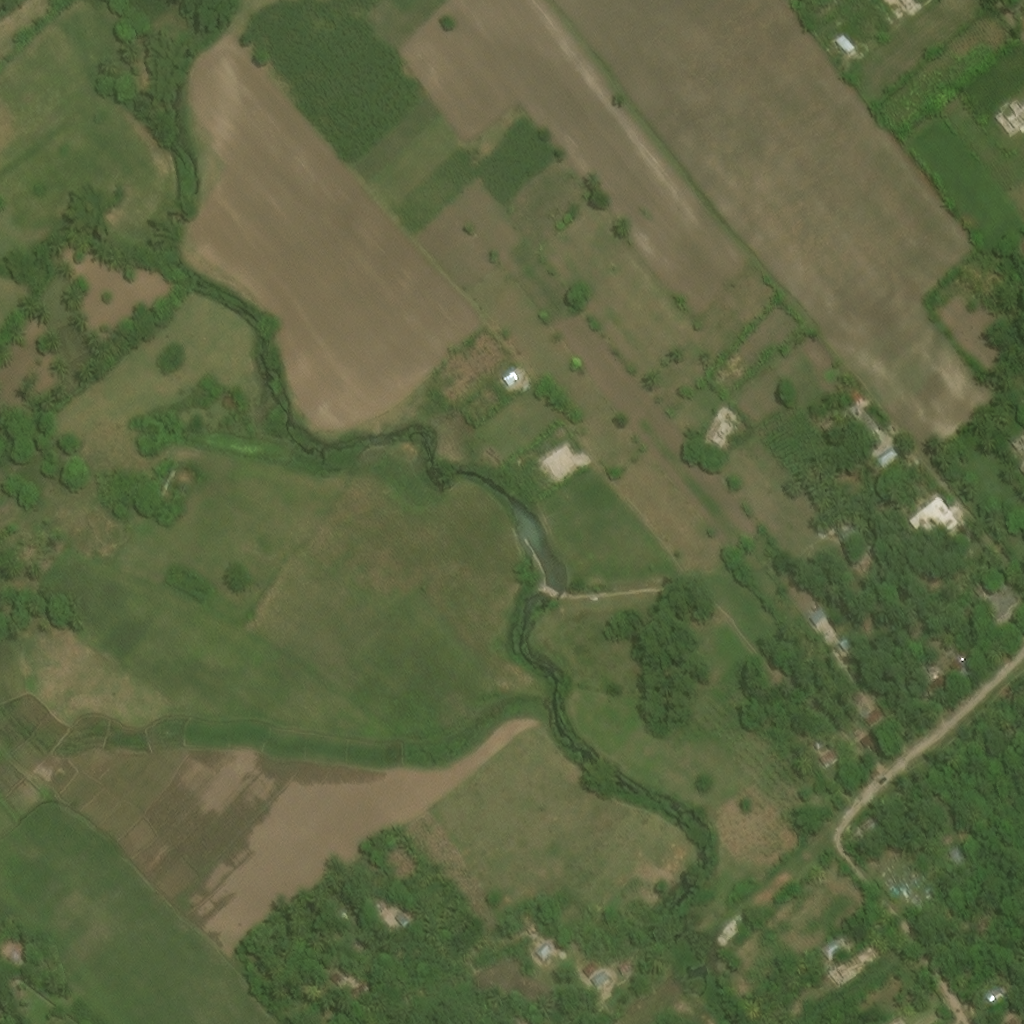destroyed: (920, 879, 935, 893), (897, 876, 909, 890), (911, 891, 923, 902), (908, 884, 919, 894)
minor_damage: (970, 567, 1019, 614), (857, 407, 878, 432), (534, 935, 553, 954), (617, 954, 633, 972), (837, 927, 853, 944), (867, 809, 878, 825), (508, 1011, 522, 1023)
no_damage: (4, 938, 28, 963), (857, 697, 881, 720), (947, 647, 969, 671), (858, 724, 880, 747), (944, 840, 966, 863), (807, 731, 828, 751), (883, 432, 900, 452), (819, 745, 838, 762), (826, 645, 843, 664), (591, 963, 607, 980), (822, 415, 839, 431), (821, 757, 838, 772), (939, 829, 954, 844), (818, 636, 833, 651), (1001, 983, 1014, 1000), (583, 955, 596, 967)
unclassified: (351, 976, 371, 996), (842, 517, 863, 536), (972, 909, 990, 927), (857, 529, 874, 547), (812, 783, 824, 796), (801, 792, 812, 804), (595, 950, 605, 960)
